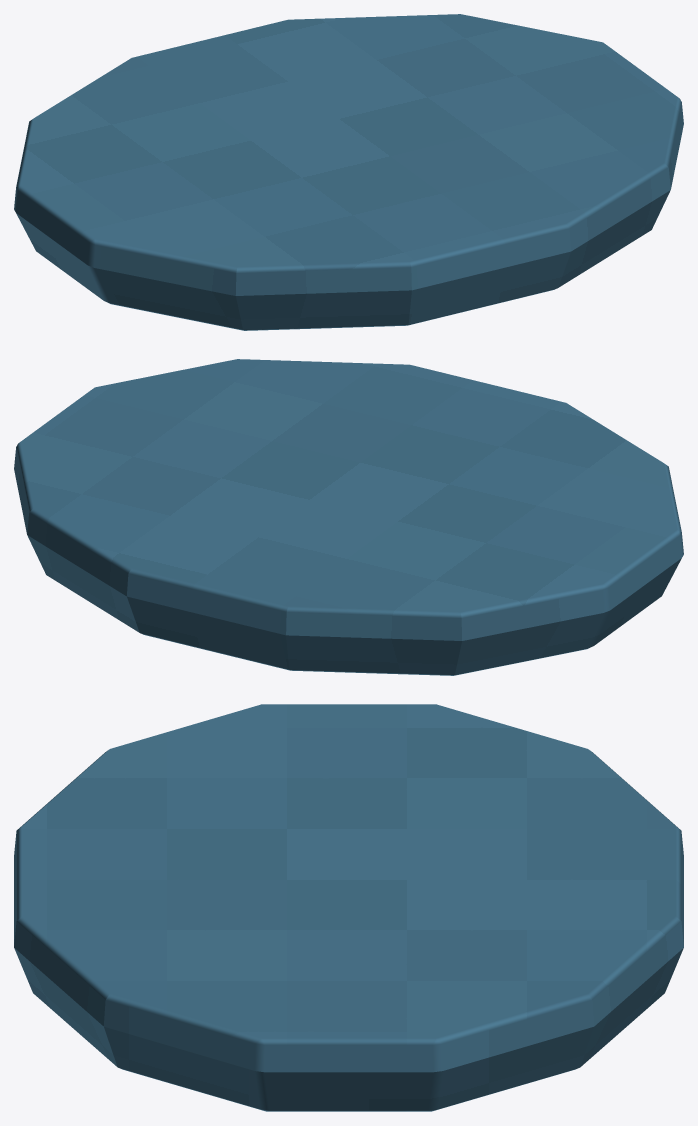
The model's file is Foot.glb.
3 renders of one model, top to bottom at view 1: azimuth 30°, elevation 25°; view 2: azimuth 150°, elevation 25°; view 3: azimuth 270°, elevation 25°, orthographic. The views are drawn at different scales.
Visible parts, largest first — view 1: Foot; view 2: Foot; view 3: Foot.
Part boxes in pixels (x1,y1,x2,y2): Foot: [14, 14, 683, 330]; Foot: [14, 359, 683, 675]; Foot: [14, 704, 683, 1111].
Size of the model in its own units: 0.2627 by 0.03 by 0.2183.
Materials: 1 (1 with a texture image).
